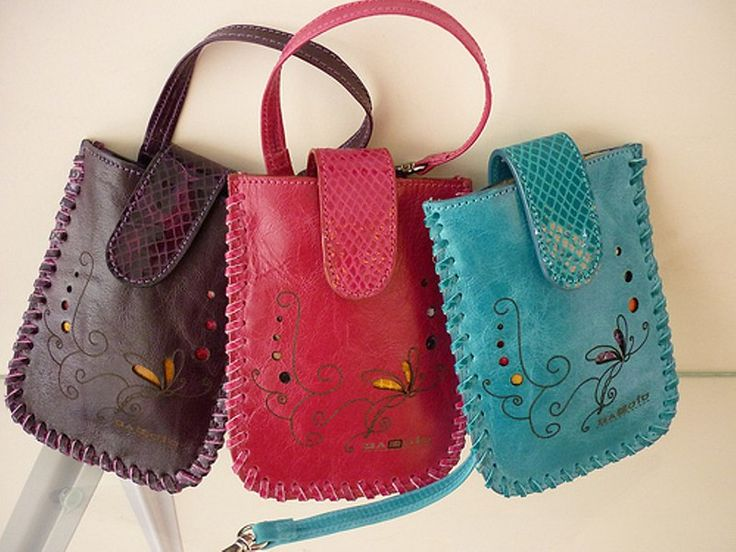cuero: (4, 1, 679, 552)
